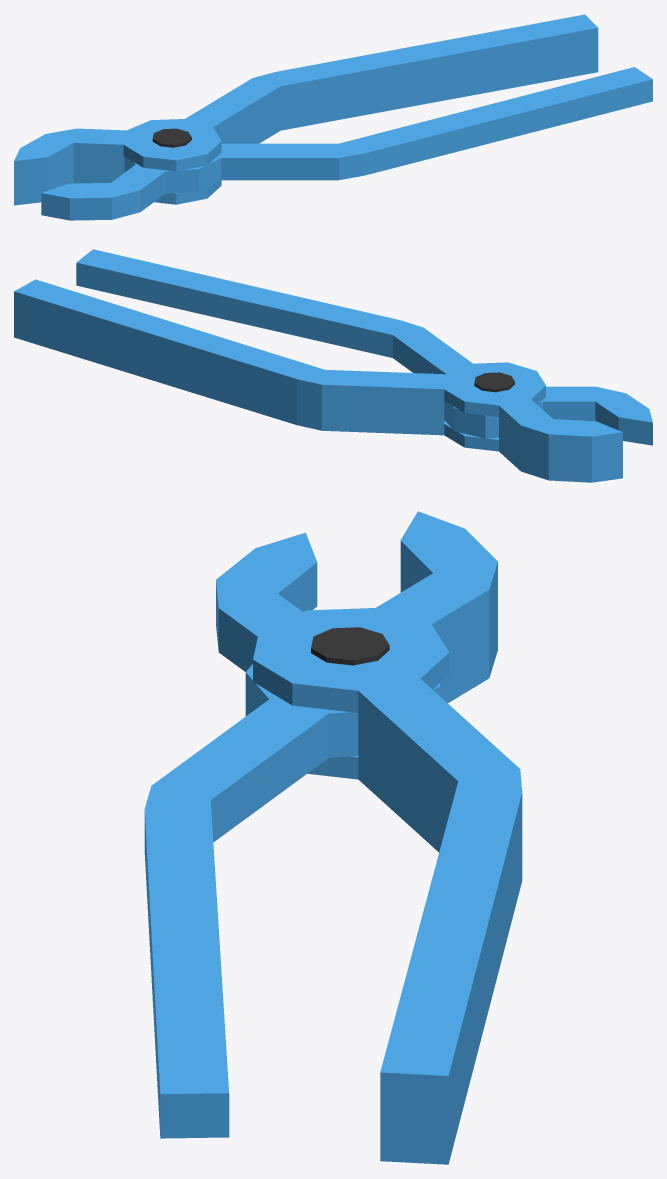
Rendered from Clamps_1.fbx.
3 renders of one model, top to bottom at view 1: azimuth 30°, elevation 25°; view 2: azimuth 150°, elevation 25°; view 3: azimuth 270°, elevation 25°, orthographic. The views are drawn at different scales.
Parts seen in each view (by area): view 1: Clamps_1.001, Arm_1.001; view 2: Clamps_1.001, Arm_1.001; view 3: Clamps_1.001, Arm_1.001.
Part boxes in pixels (x1,y1,x2,y2): Clamps_1.001: (14, 14, 598, 205); Arm_1.001: (41, 67, 652, 220); Clamps_1.001: (14, 279, 622, 482); Arm_1.001: (76, 249, 652, 445); Clamps_1.001: (253, 511, 522, 1164); Arm_1.001: (144, 532, 439, 1138).
Bounding box in the file's own units: 37.47 × 3.06 × 10.57.
